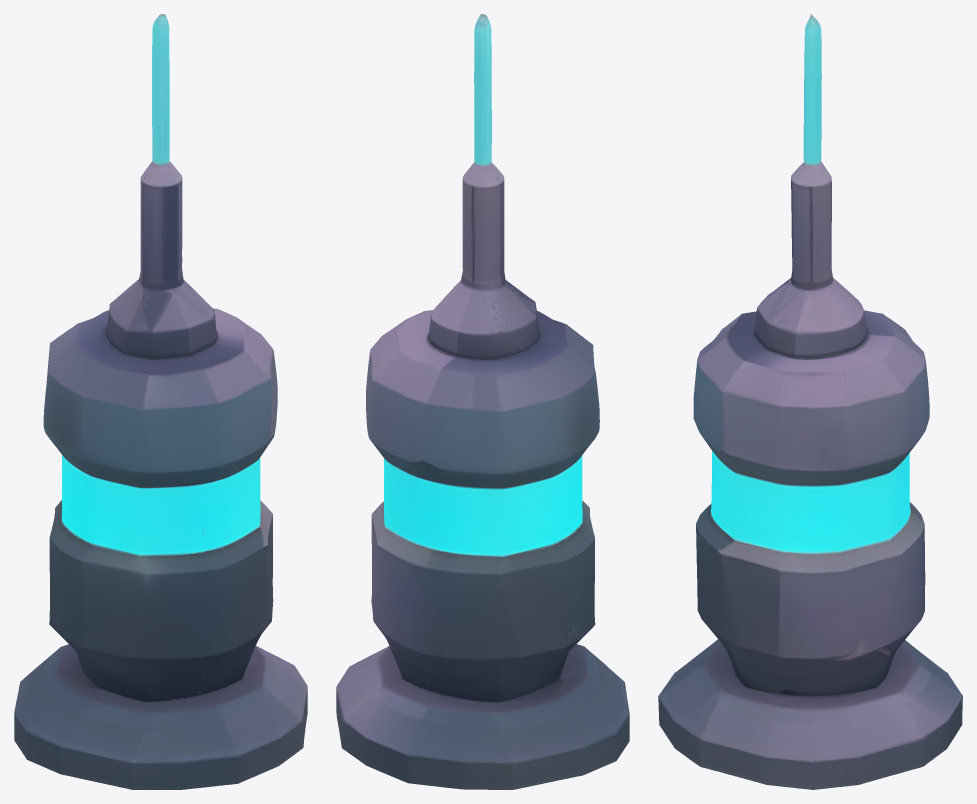
File: base_basic_shaded.fbx
3 renders of one model, left to right at view 1: azimuth 30°, elevation 25°; view 2: azimuth 150°, elevation 25°; view 3: azimuth 270°, elevation 25°, orthographic.
Visible parts, largest first — view 1: model; view 2: model; view 3: model.
Boxes of the visible parts, x1,y1,x2,y2 form: model: (14,14,307,789); model: (336,14,629,789); model: (658,14,962,789).
Bounding box in the file's own units: 73.09 × 190 × 72.44.
